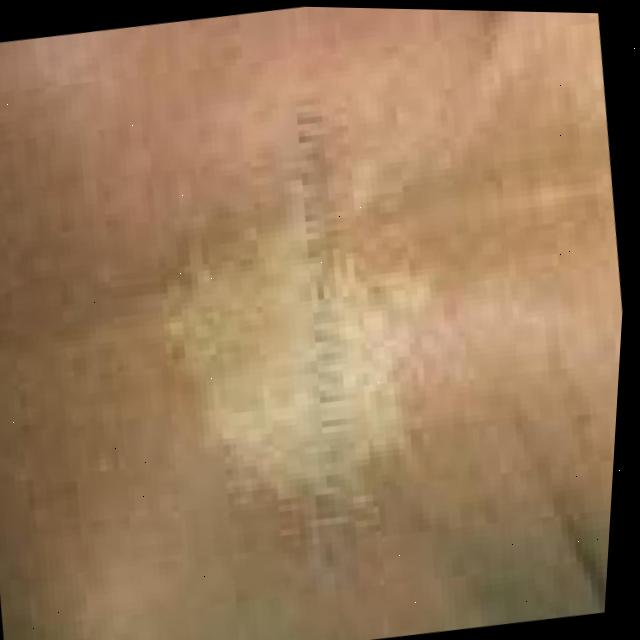Melasma: (99, 125, 501, 604)
